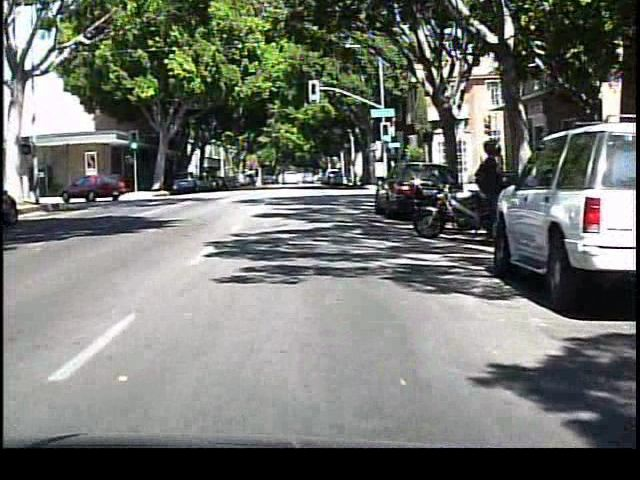person: (468, 132, 514, 247)
